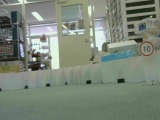speed_10: (137, 40, 156, 56)
